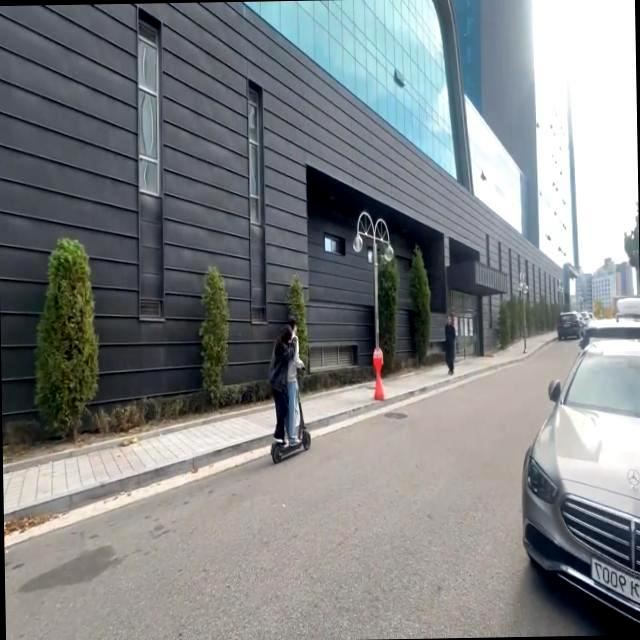bare_head: (285, 319, 300, 342), (275, 325, 291, 345)
human: (277, 318, 304, 446), (265, 325, 290, 447)
kickboard: (266, 425, 313, 467)
